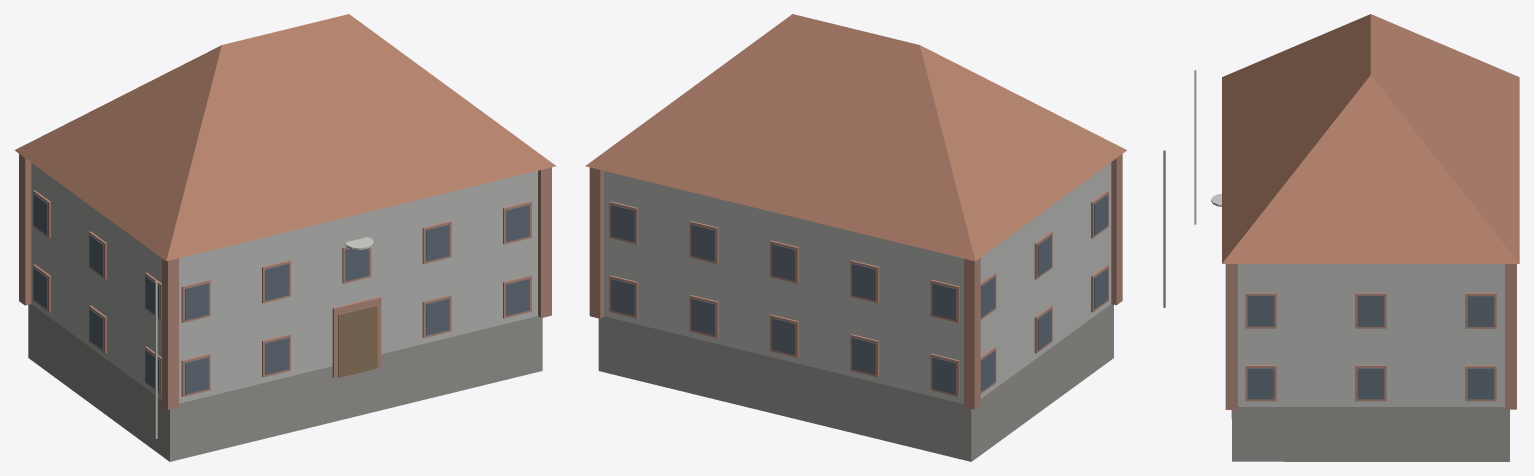
Rendered from landmark-townhall-ehemaliges-rathaus.glb.
3 views of the same model, side by side, from view 1: azimuth 30°, elevation 25°; view 2: azimuth 150°, elevation 25°; view 3: azimuth 270°, elevation 25° (orthographic). The views are drawn at different scales.
Parts seen in each view (by area): view 1: building; view 2: building; view 3: building.
Boxes of the visible parts, x1,y1,x2,y2 form: building: (14,14,556,461); building: (585,14,1165,461); building: (1194,14,1519,461).
Size of the model in its own units: 19.36 by 14.94 by 13.42.
